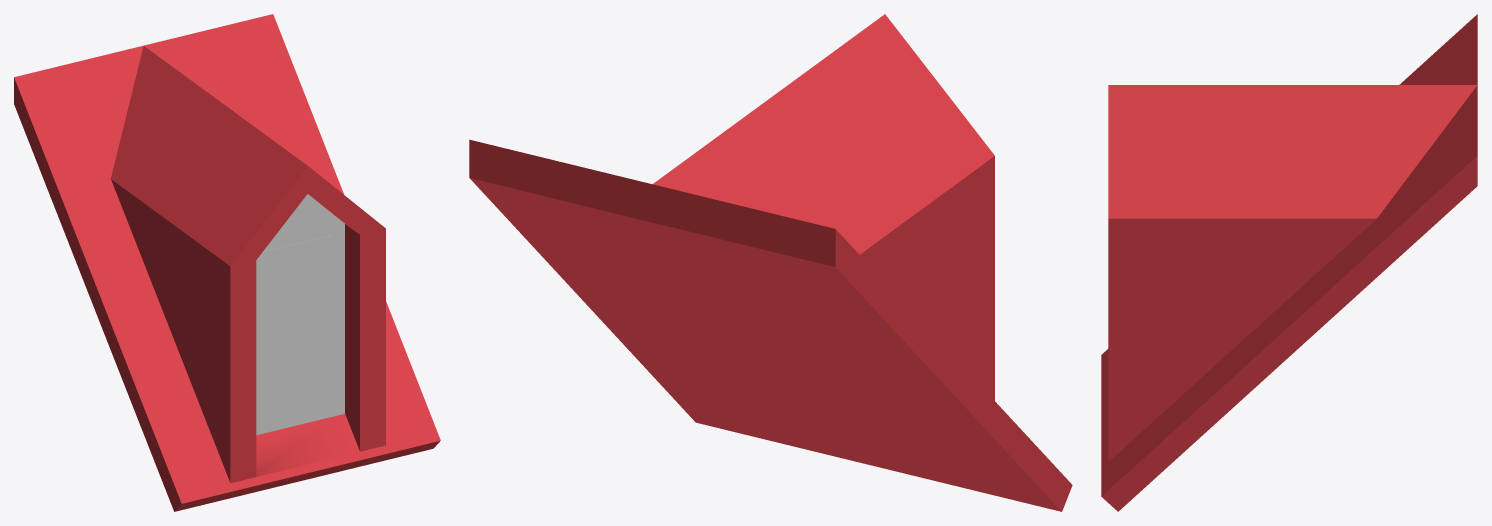
Rendered from roof_dormer4.glb.
3 renders of one model, left to right at view 1: azimuth 30°, elevation 25°; view 2: azimuth 150°, elevation 25°; view 3: azimuth 270°, elevation 25°, orthographic. The views are drawn at different scales.
Visible parts, largest first — view 1: roof_dormer4; view 2: roof_dormer4; view 3: roof_dormer4.
Boxes of the visible parts, <box> form: roof_dormer4: <box>14,14,440,511</box>; roof_dormer4: <box>469,14,1072,511</box>; roof_dormer4: <box>1101,14,1477,511</box>.
Size of the model in its own units: 1 by 1.17 by 1.12.
